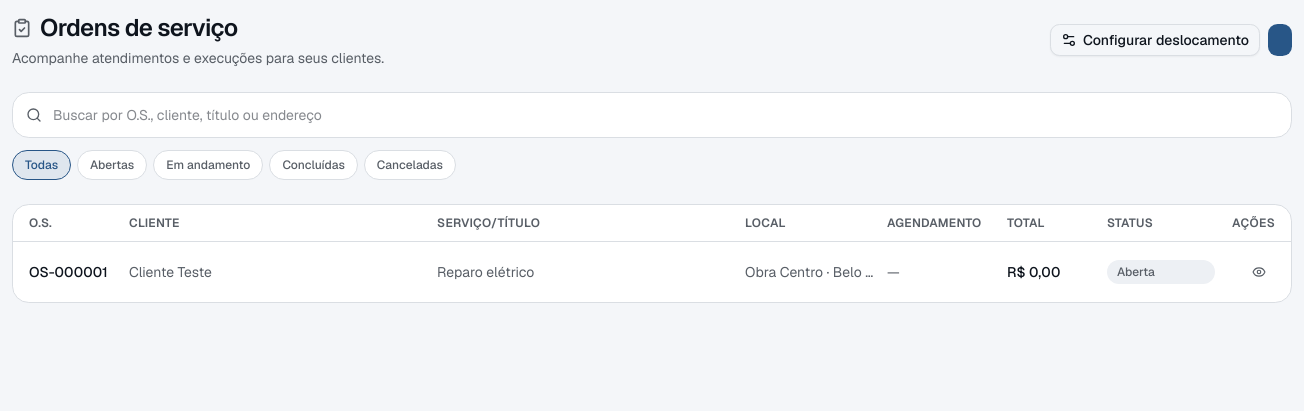
ServiceOrderList › L6: shows a distinct empty state (no CTA) when a search produces zero results
This screenshot has width=1304, height=411.
Step 1. Type "inexistente" into the field named "buscar ordens de serviço" → (652, 115), box 12,92 -> 1292,138
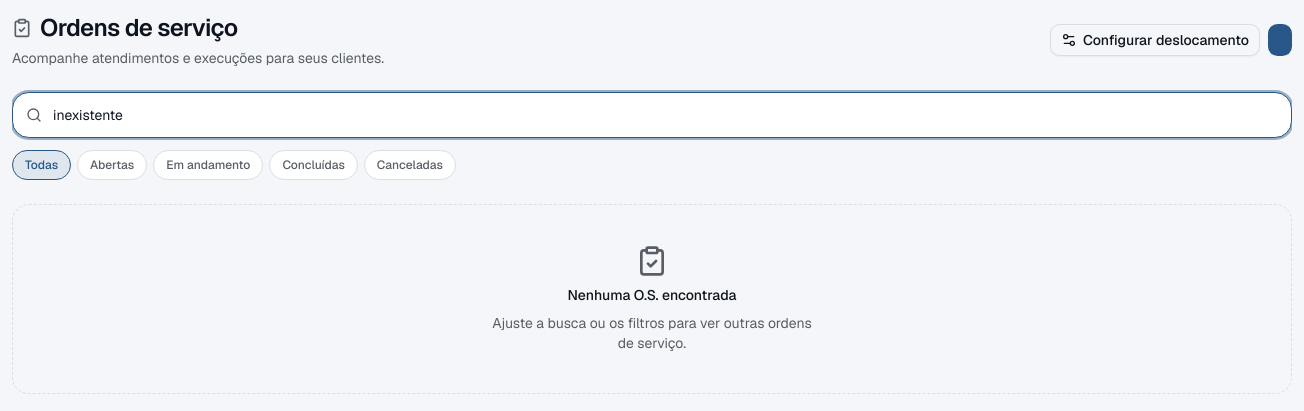
expect the text "Nenhuma O.S. encontrada" is shown: met, box 568,285 -> 736,305
